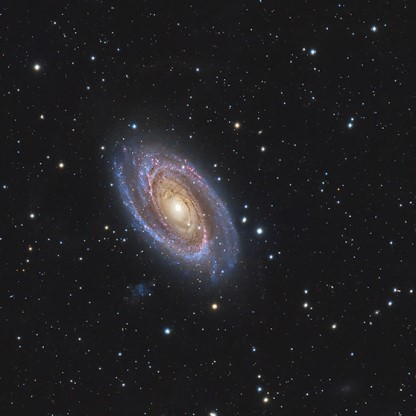Messier 81: (101, 120, 265, 290)
